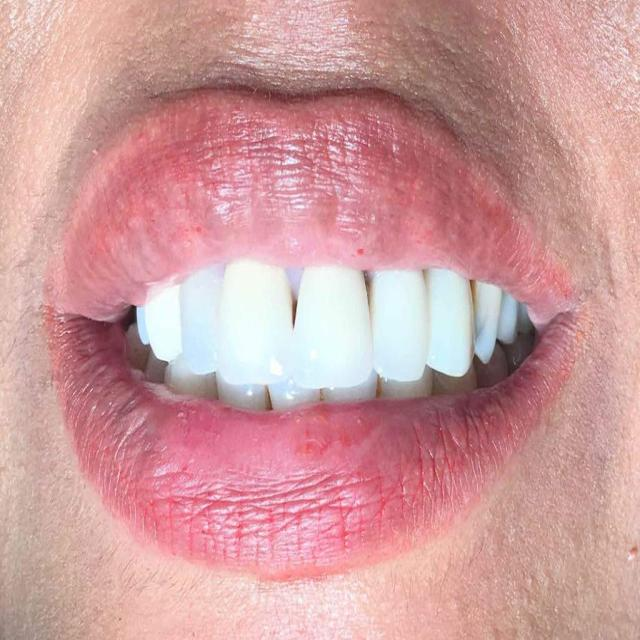tooth: (293, 266, 378, 394), (224, 265, 289, 384), (372, 260, 432, 376), (178, 262, 230, 370), (427, 258, 474, 372), (148, 280, 191, 364), (471, 277, 500, 370), (161, 362, 219, 405), (211, 380, 271, 412), (126, 327, 160, 382), (498, 292, 528, 352), (326, 383, 386, 410), (473, 344, 518, 378), (377, 380, 431, 408), (272, 388, 324, 406), (132, 314, 152, 348), (507, 346, 531, 374), (438, 377, 473, 392)
